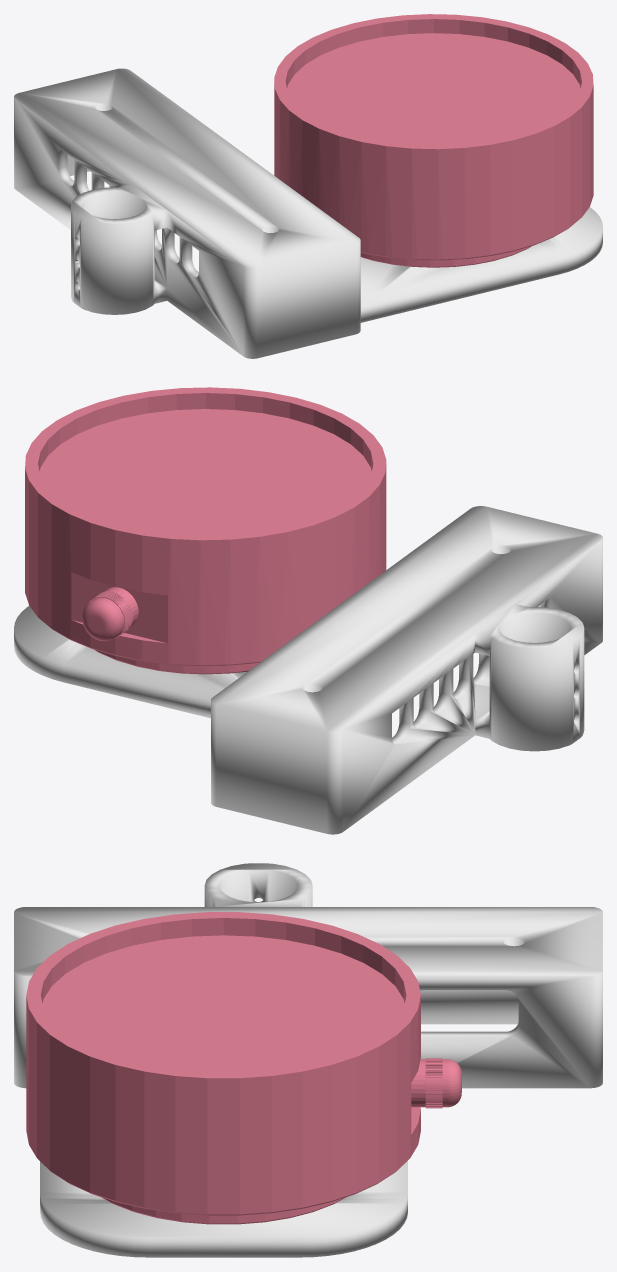
3 renders of one model, top to bottom at view 1: azimuth 30°, elevation 25°; view 2: azimuth 150°, elevation 25°; view 3: azimuth 270°, elevation 25°, orthographic. The views are drawn at different scales.
Visible parts, largest first — view 1: intel435i_dobot_cr5-2, Link6; view 2: intel435i_dobot_cr5-2, Link6; view 3: Link6, intel435i_dobot_cr5-2.
Part boxes in pixels (box(x1,y1,x2,y2)): intel435i_dobot_cr5-2: box(14, 68, 602, 358); Link6: box(274, 14, 593, 267); intel435i_dobot_cr5-2: box(14, 506, 602, 834); Link6: box(25, 387, 386, 674); Link6: box(26, 912, 461, 1224); intel435i_dobot_cr5-2: box(14, 863, 602, 1257).
Bounding box in the file's own units: 0.1421 × 0.1224 × 0.0427.
